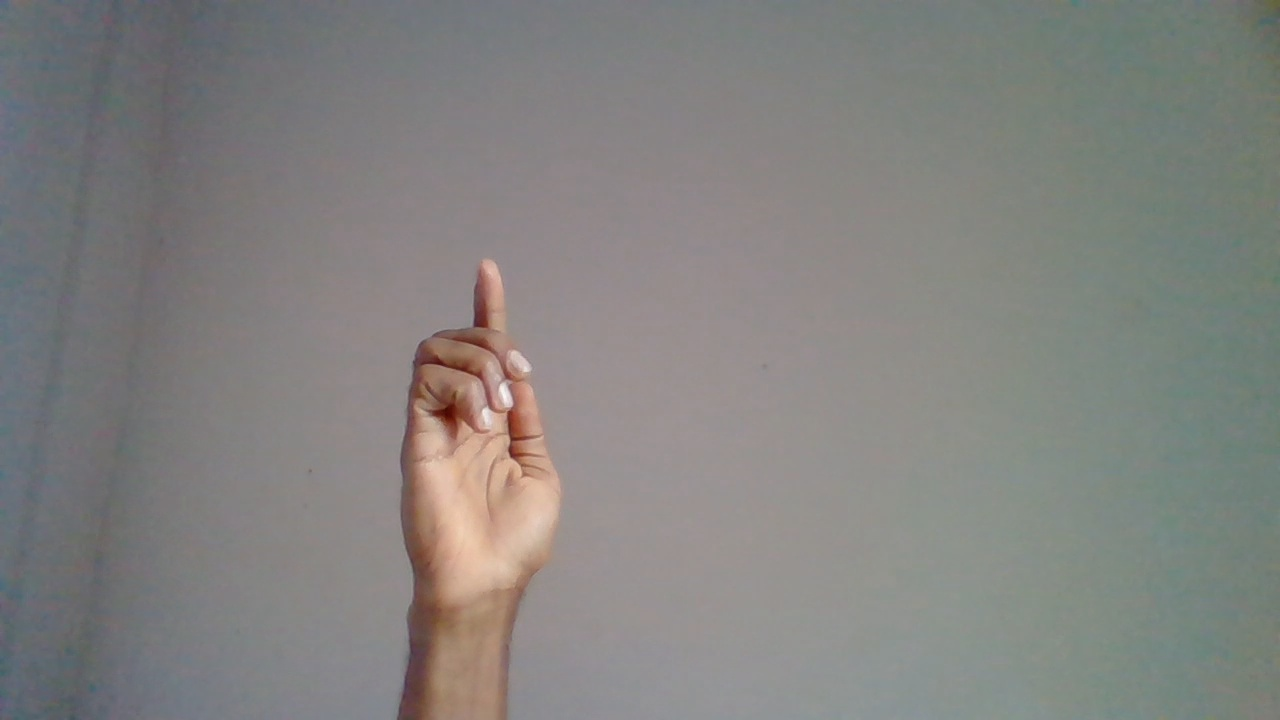qe: (398, 261, 572, 680)
